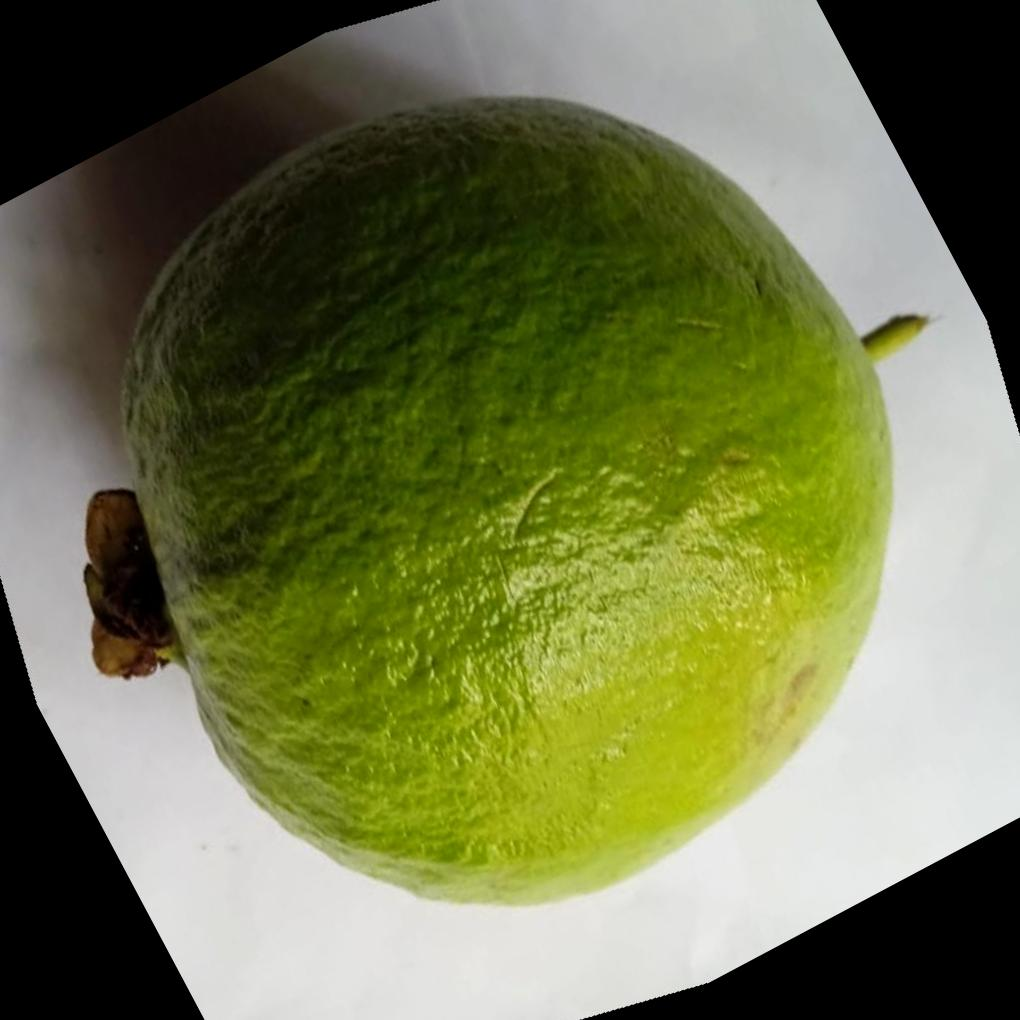FreshGuava: (82, 89, 893, 906)
